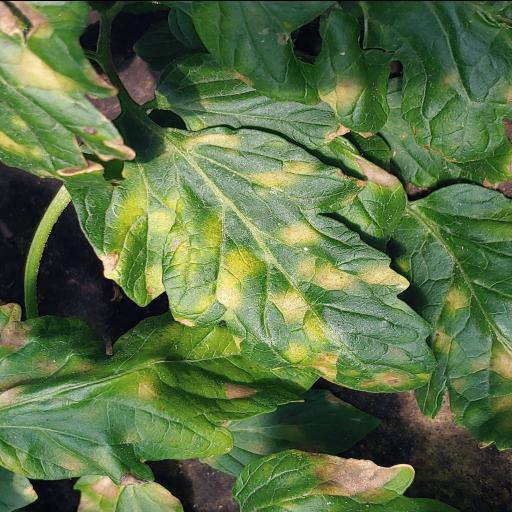Leaf Mold: (101, 124, 429, 396), (0, 302, 320, 481), (387, 182, 512, 450)
